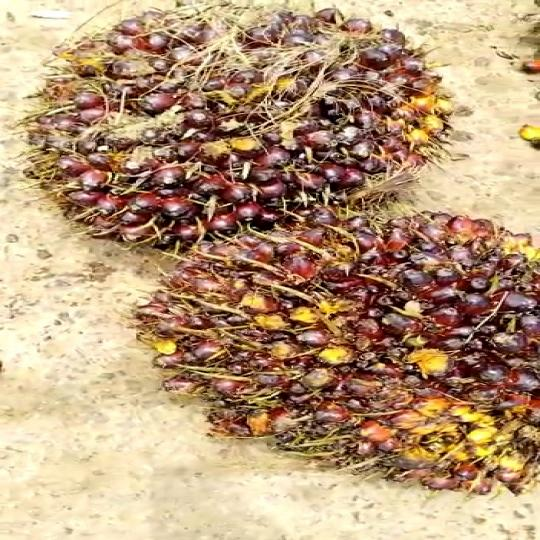kurang masak: (0, 0, 462, 253), (148, 208, 540, 503)
